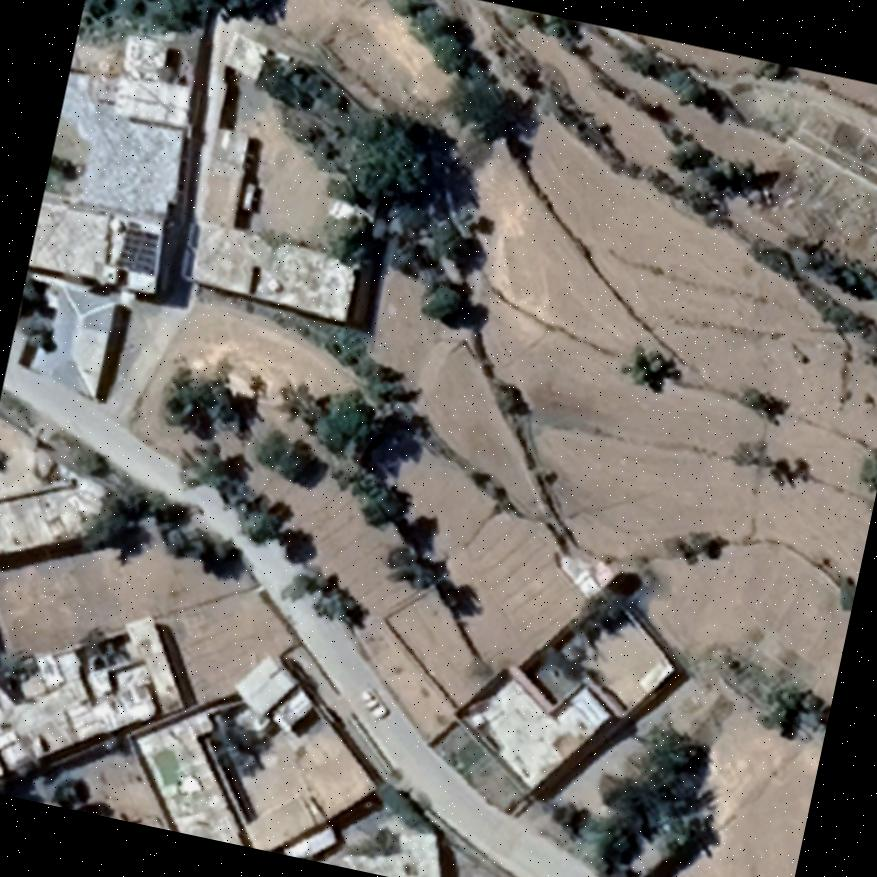Solarpanel: (109, 222, 165, 279)
